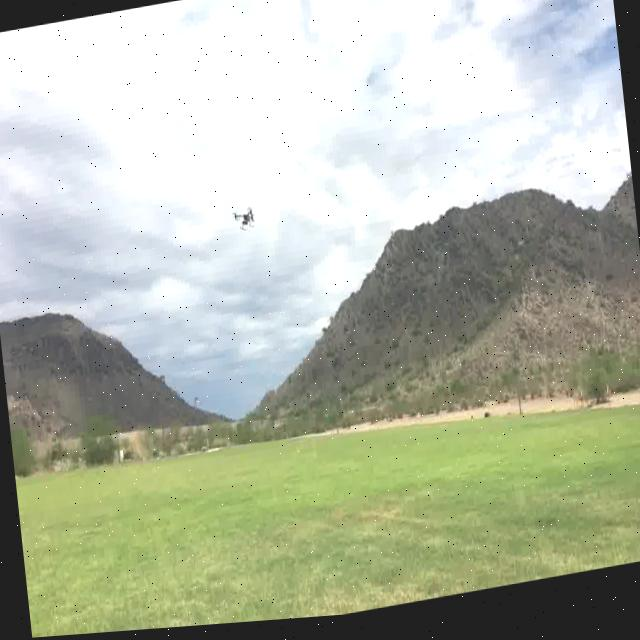drone: (230, 203, 256, 238)
